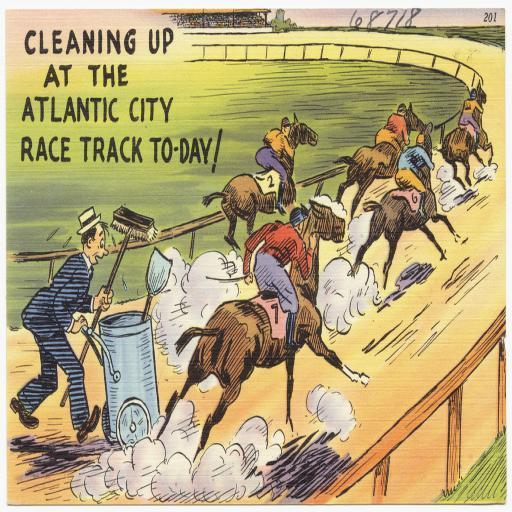horse: (156, 195, 371, 461), (352, 118, 462, 293), (202, 108, 320, 247), (332, 98, 426, 217), (436, 80, 494, 192)
